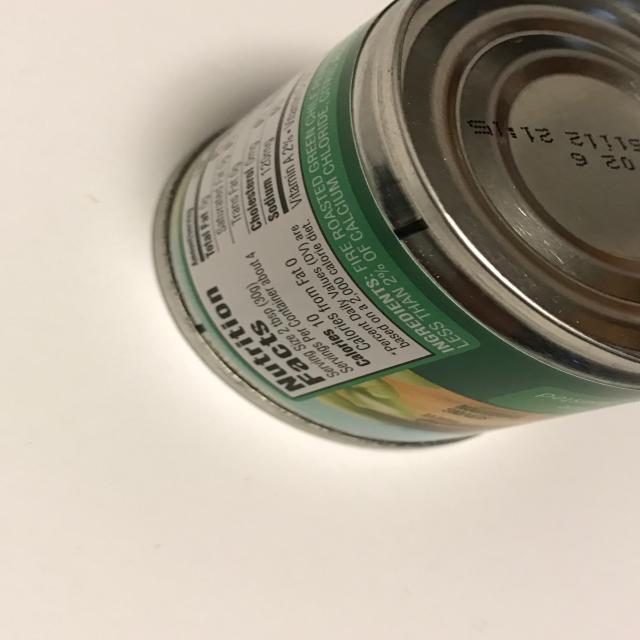metal: (148, 1, 640, 455)
